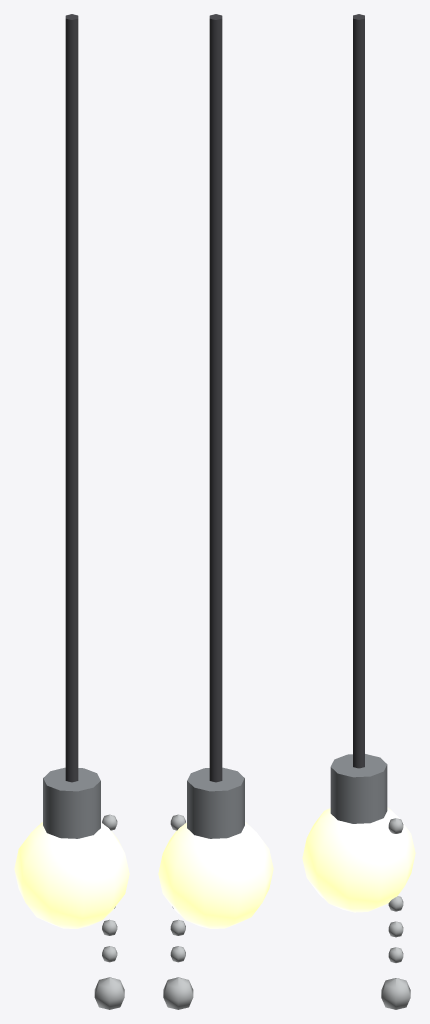
The model's file is Pull_chain_lamp.glb.
The picture shows the model from 3 angles, left to right: view 1: azimuth 30°, elevation 25°; view 2: azimuth 150°, elevation 25°; view 3: azimuth 330°, elevation 25°; orthographic projection.
Parts seen in each view (by area): view 1: Pull_chain_lamp; view 2: Pull_chain_lamp; view 3: Pull_chain_lamp.
Boxes of the visible parts, x1,y1,x2,y2 form: Pull_chain_lamp: (14, 14, 129, 1009); Pull_chain_lamp: (158, 14, 273, 1009); Pull_chain_lamp: (302, 14, 415, 1009).
Bounding box in the file's own units: 0.082 × 0.762 × 0.0761.
